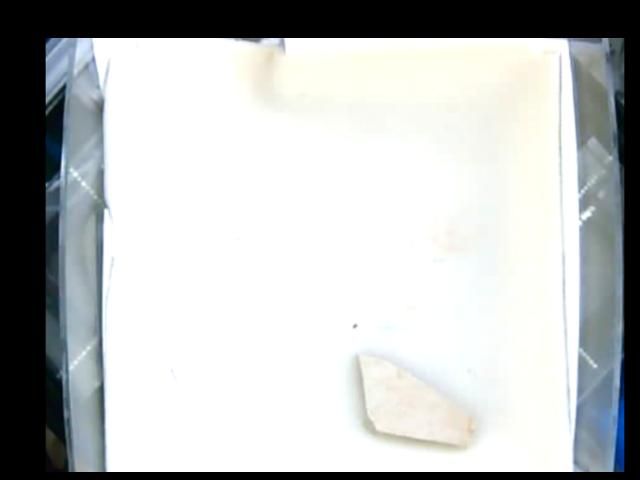China: (361, 351, 473, 443)
